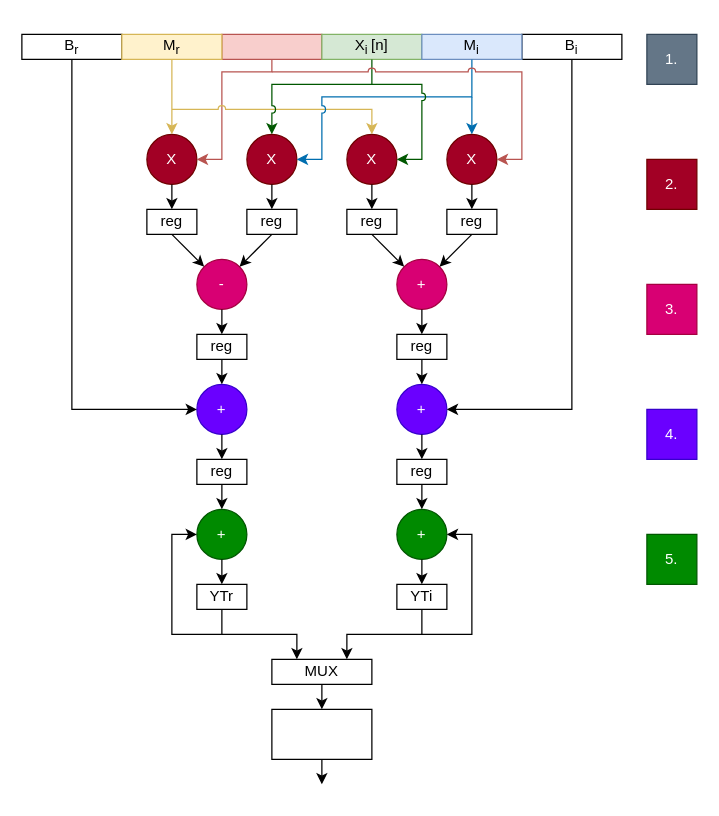
This 719x816 diagram has some shape labels left out. Here are the shapes that lost their labels. From the top down, the centre of each, then its label:
the point at 271,46: X r [n]
the point at 321,733: DIV (right shift 10)
